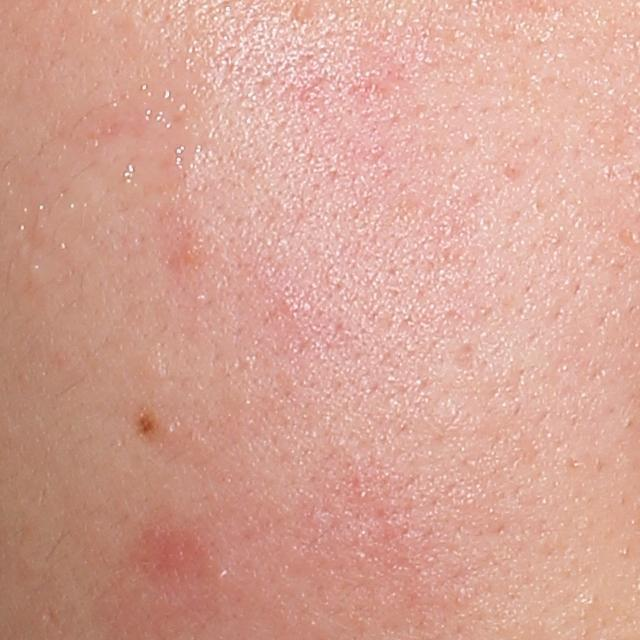nevus: (130, 409, 159, 441)
